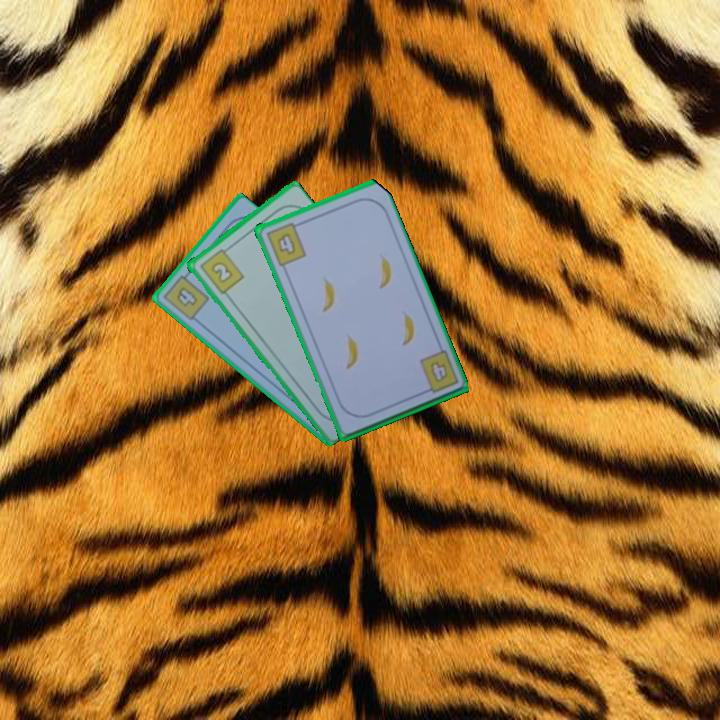2b: (196, 243, 246, 297)
4b: (160, 268, 212, 323), (262, 219, 309, 268), (427, 357, 450, 385)
